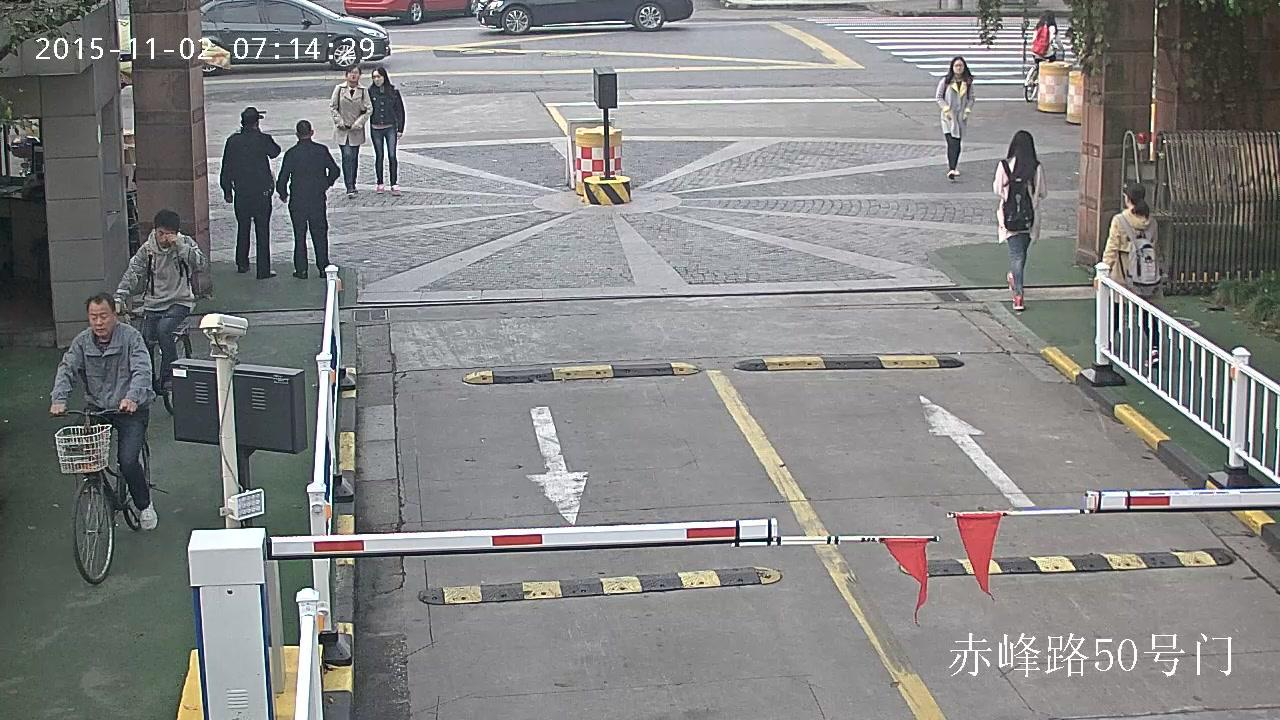face: (88, 299, 113, 336), (155, 227, 176, 247), (372, 70, 384, 86), (952, 59, 964, 73), (348, 67, 359, 82)
